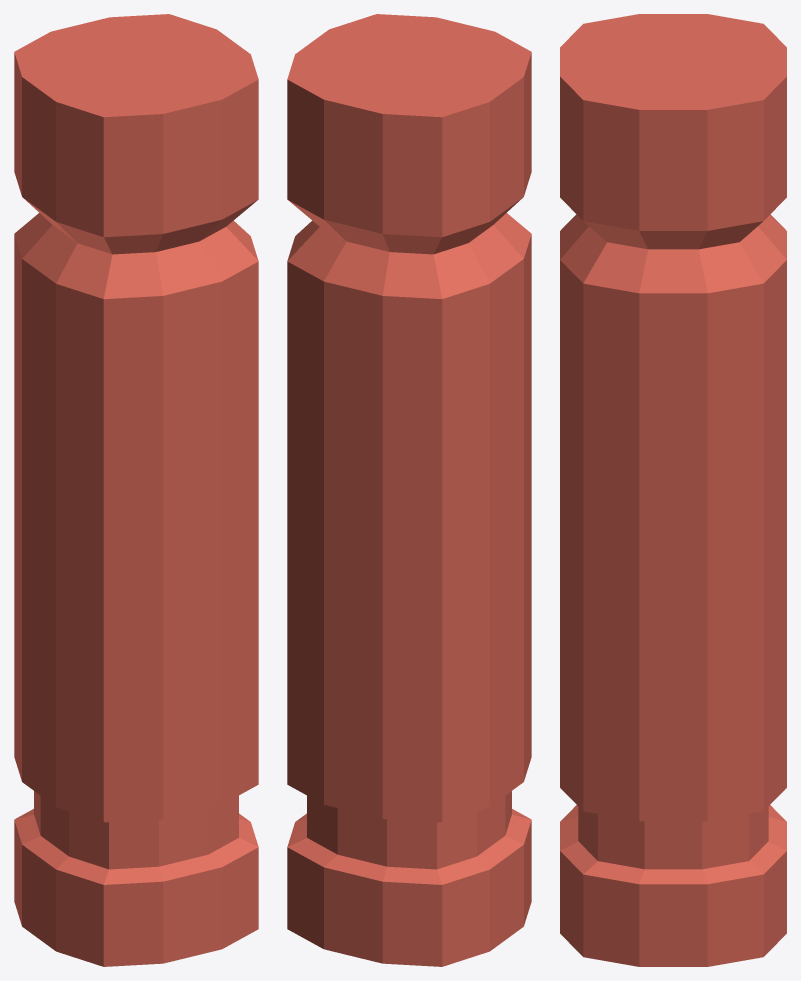
File: TableLeg2.fbx
3 views of the same model, side by side, from view 1: azimuth 30°, elevation 25°; view 2: azimuth 150°, elevation 25°; view 3: azimuth 270°, elevation 25° (orthographic).
Visible parts, largest first — view 1: TableLeg2; view 2: TableLeg2; view 3: TableLeg2.
Boxes of the visible parts, x1,y1,x2,y2 form: TableLeg2: (14,14,258,966); TableLeg2: (287,14,531,966); TableLeg2: (560,14,786,966).
Size of the model in its own units: 0.1911 by 0.7967 by 0.1911.
